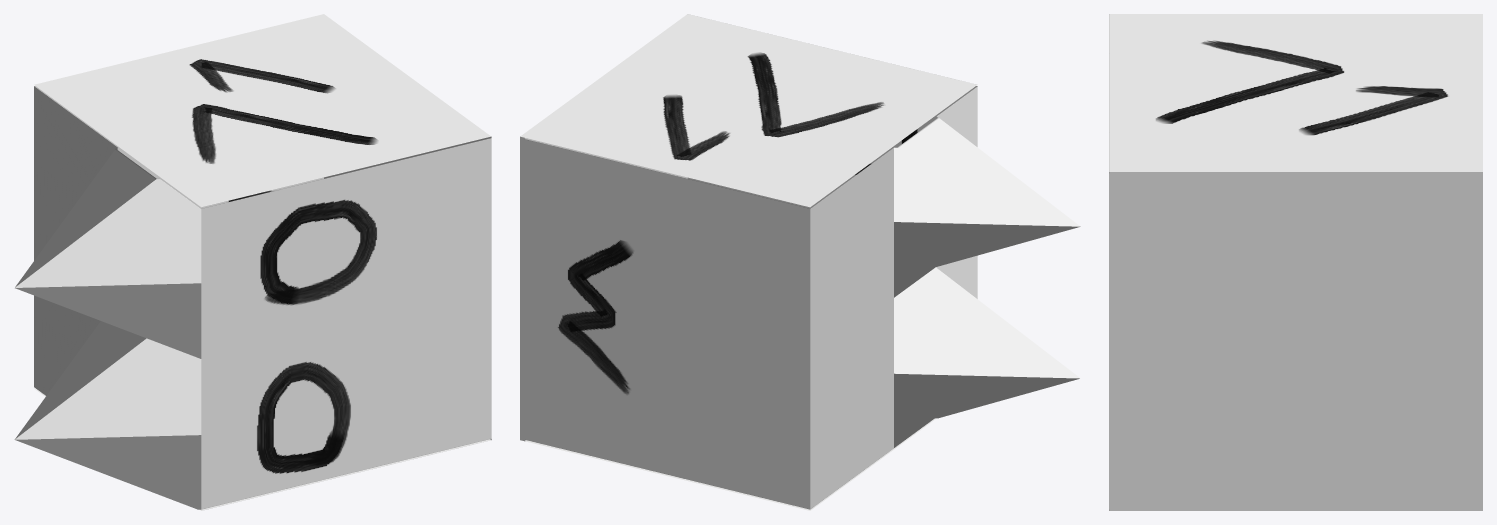
Rendered from playerCube.fbx.
3 renders of one model, left to right at view 1: azimuth 30°, elevation 25°; view 2: azimuth 150°, elevation 25°; view 3: azimuth 270°, elevation 25°, orthographic. The views are drawn at different scales.
Visible parts, largest first — view 1: playerCube; view 2: playerCube; view 3: playerCube.
Boxes of the visible parts, x1,y1,x2,y2 form: playerCube: (14, 14, 491, 510); playerCube: (520, 14, 1080, 510); playerCube: (1109, 14, 1482, 510).
Size of the model in its own units: 300 by 200 by 200.
